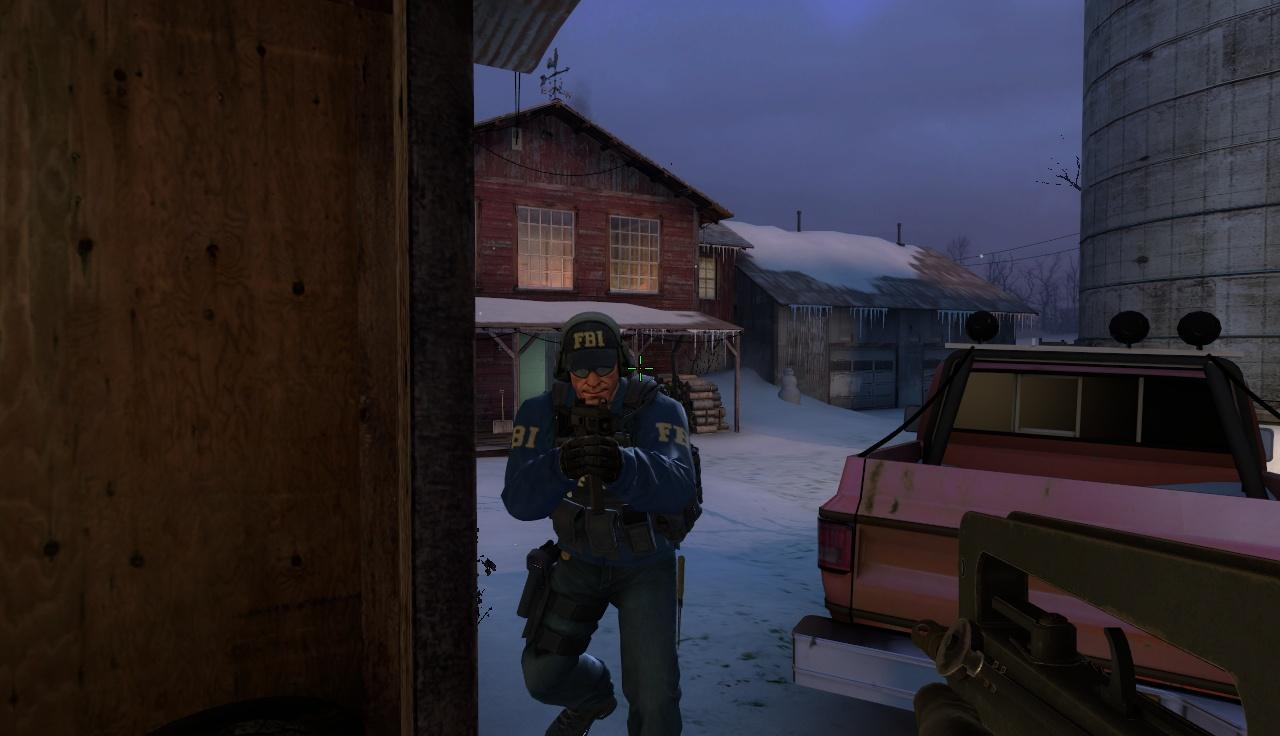ct: (512, 312, 689, 736)
cthead: (557, 313, 628, 405)
rifle: (913, 490, 1280, 736)
